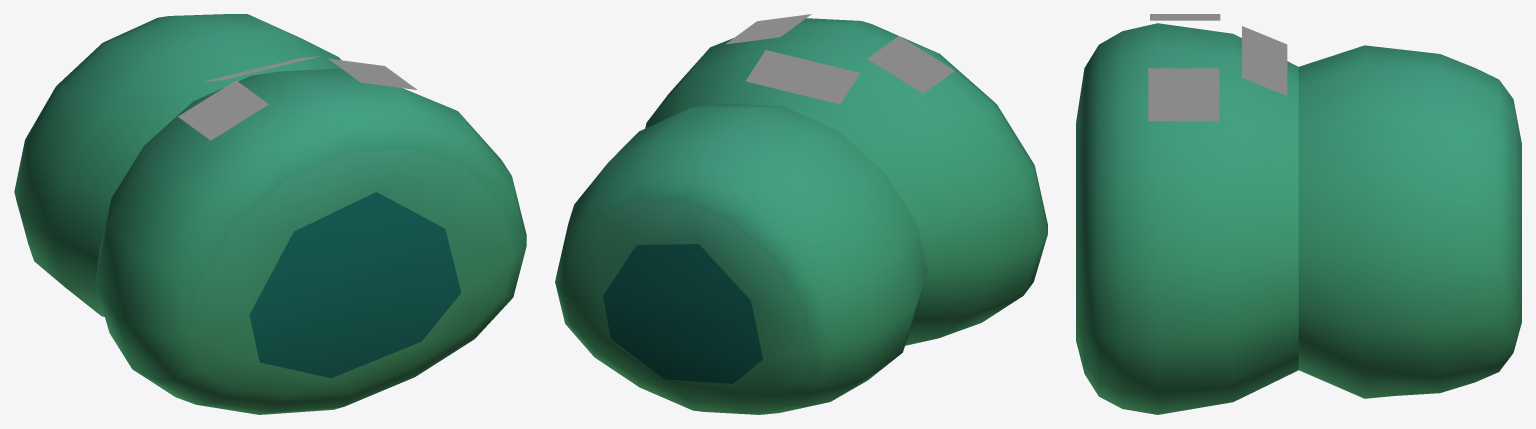
Rendered from sweet_tube_half_green_smile.fbx.
The picture shows the model from 3 angles, left to right: view 1: azimuth 30°, elevation 25°; view 2: azimuth 150°, elevation 25°; view 3: azimuth 270°, elevation 25°; orthographic projection. The views are drawn at different scales.
Parts seen in each view (by area): view 1: pie_half_green, smile_pie; view 2: pie_half_green, smile_pie; view 3: pie_half_green, smile_pie.
Part boxes in pixels (box(x1,y1,x2,y2)): pie_half_green: box(14, 14, 526, 414); smile_pie: box(178, 56, 416, 140); pie_half_green: box(555, 18, 1047, 414); smile_pie: box(726, 14, 954, 104); pie_half_green: box(1076, 23, 1521, 414); smile_pie: box(1148, 14, 1287, 121).
Bounding box in the file's own units: 34.33 × 25.87 × 30.95.
